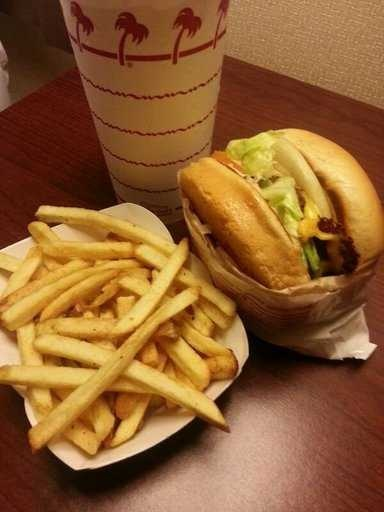hamburger: (186, 100, 365, 327)
